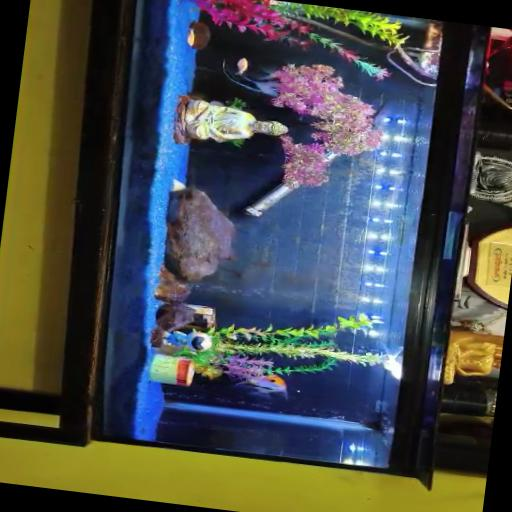Fish: (222, 61, 278, 96), (236, 373, 287, 398), (236, 57, 247, 74), (186, 27, 194, 46)
